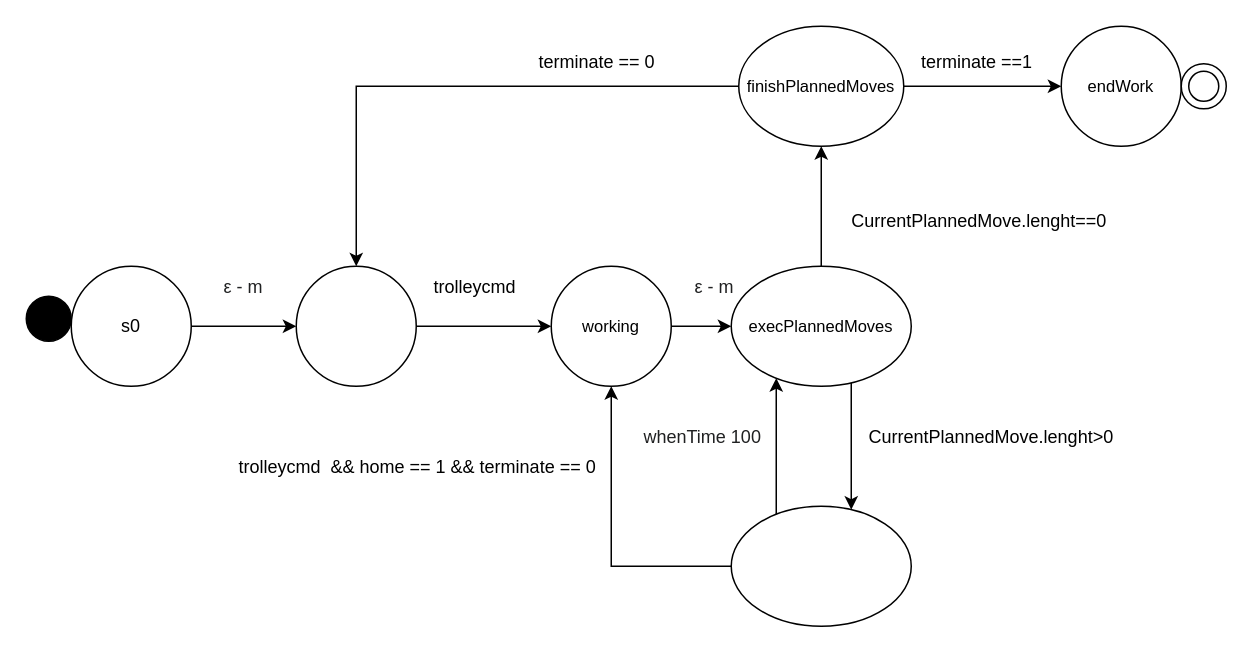
Some shapes in this 1253 by 653 pixel diagram are drawn without their labels. The shapes that lost their labels are listed below. From the top down, each one's centre as x and y in pixels, then its label:
At pixel 355 325: "idle".
At pixel 820 565: "doMove".
